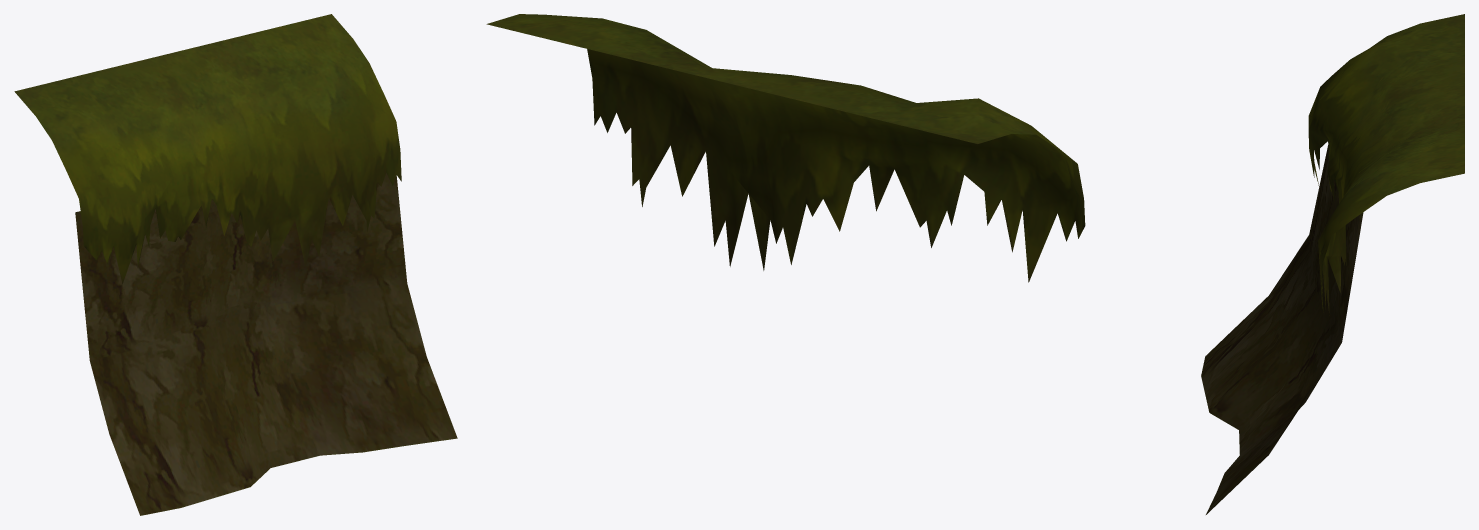
The model's file is lumina_trim_base4_p2_01.FBX.
The picture shows the model from 3 angles, left to right: view 1: azimuth 30°, elevation 25°; view 2: azimuth 150°, elevation 25°; view 3: azimuth 270°, elevation 25°; orthographic projection. The views are drawn at different scales.
Visible parts, largest first — view 1: lumina_trim_base4_p2_01; view 2: lumina_trim_base4_p2_01; view 3: lumina_trim_base4_p2_01.
Part boxes in pixels (x1=…): lumina_trim_base4_p2_01: x1=14, y1=14, x2=457, y2=515; lumina_trim_base4_p2_01: x1=486, y1=14, x2=1085, y2=282; lumina_trim_base4_p2_01: x1=1201, y1=14, x2=1464, y2=514.
Bounding box in the file's own units: 4 × 4 × 2.79.
